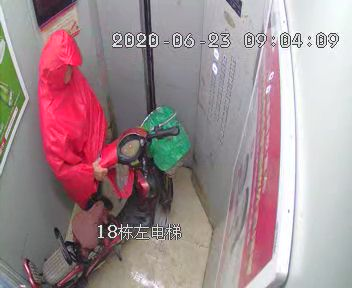Electric-bicycle: (24, 111, 183, 285)
